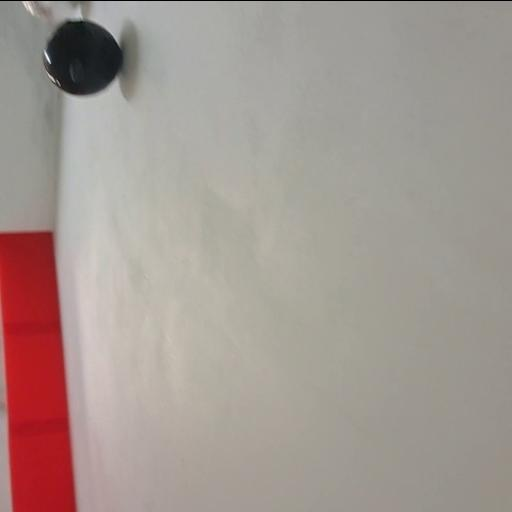alive: (21, 0, 91, 18)
dead: (41, 16, 122, 98)
